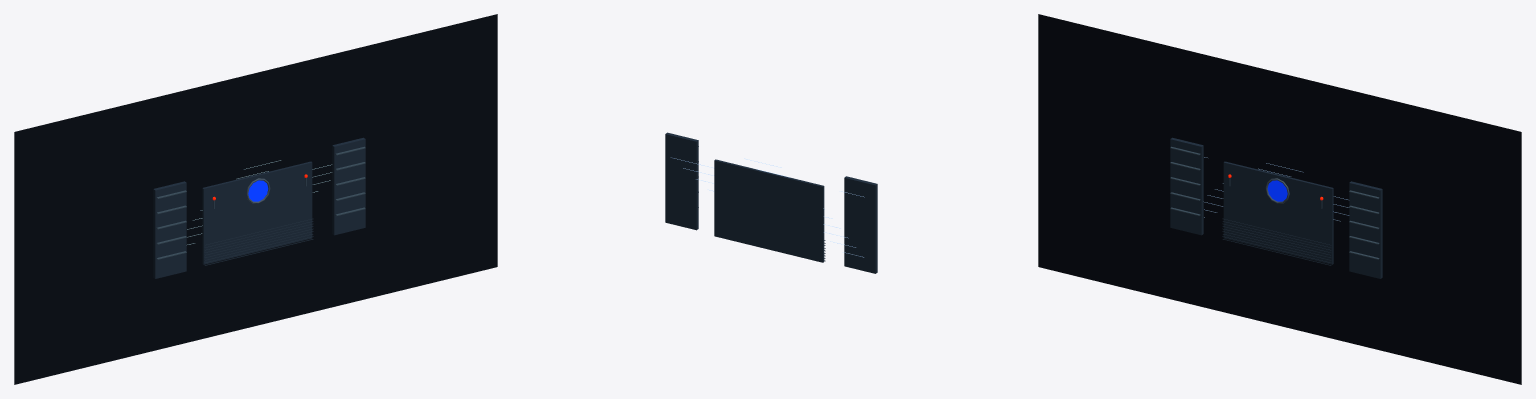
File: forge.glb
3 views of the same model, side by side, from view 1: azimuth 30°, elevation 25°; view 2: azimuth 150°, elevation 25°; view 3: azimuth 330°, elevation 25° (orthographic).
Visible parts, largest first — view 1: background, object 32, object 20, object 26; view 2: object 32, object 20, object 26; view 3: background, object 32, object 26, object 20.
Part boxes in pixels (x1,y1,x2,y2): background: [14, 14, 497, 384]; object 32: [202, 161, 312, 264]; object 20: [153, 181, 186, 278]; object 26: [332, 137, 365, 235]; object 32: [714, 159, 824, 262]; object 20: [844, 176, 877, 273]; object 26: [665, 132, 698, 230]; background: [1038, 14, 1521, 384]; object 32: [1223, 161, 1333, 264]; object 26: [1349, 181, 1382, 278]; object 20: [1170, 137, 1203, 235].
Size of the model in its own units: 4000 by 2000 by 83.
